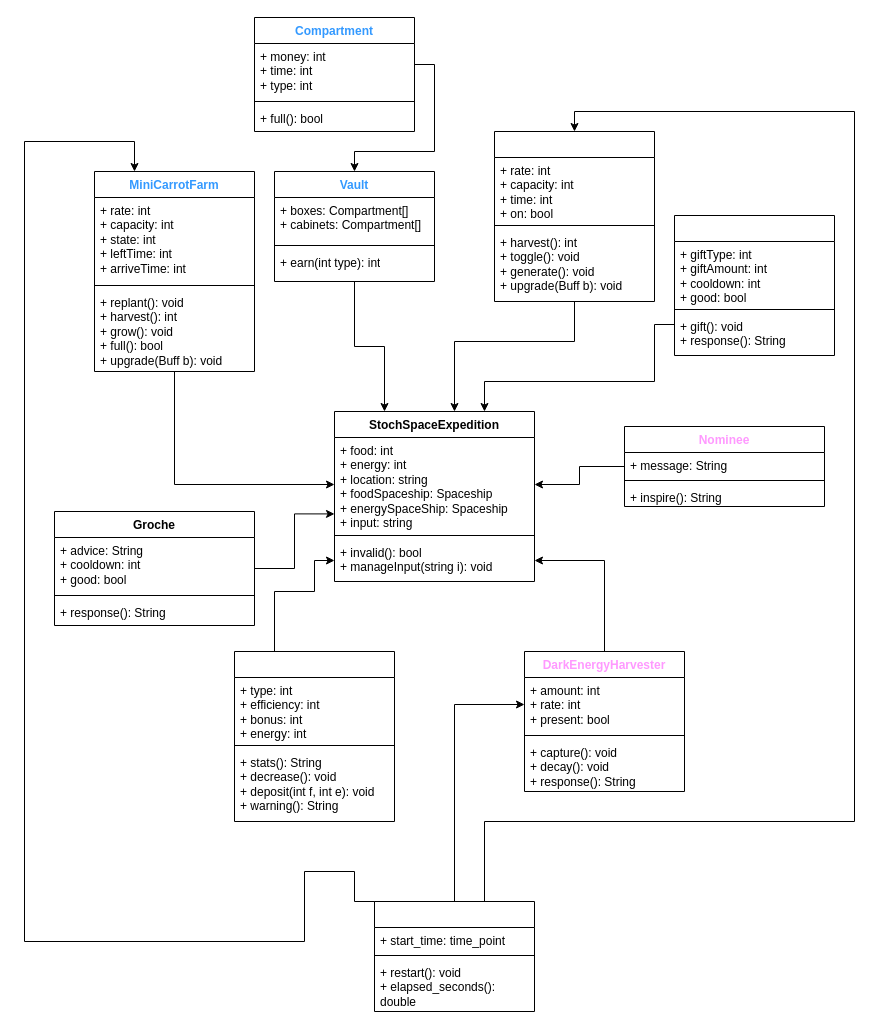
This 880x1032 diagram has some shape labels left out. Each missing label, with the box of its shape:
Foo: (674, 214, 834, 356)
FusionReactor: (494, 130, 654, 302)
Spaceship: (234, 650, 394, 822)
Timer: (374, 900, 534, 1012)
